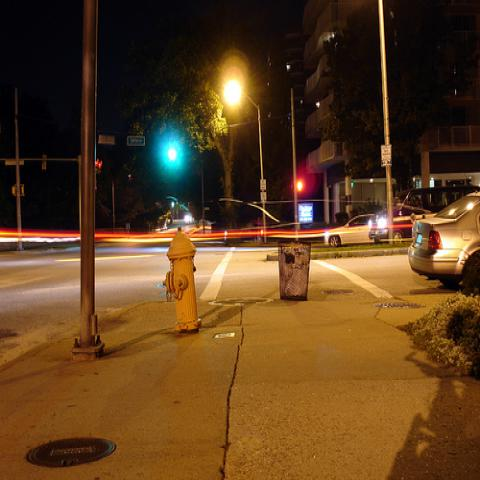car: (408, 191, 479, 285), (369, 205, 438, 244), (326, 216, 373, 248)
